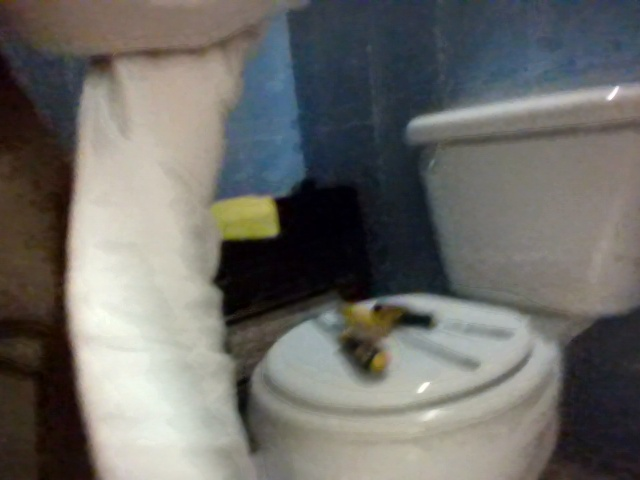destornillador: (342, 299, 516, 341), (337, 330, 483, 374)
